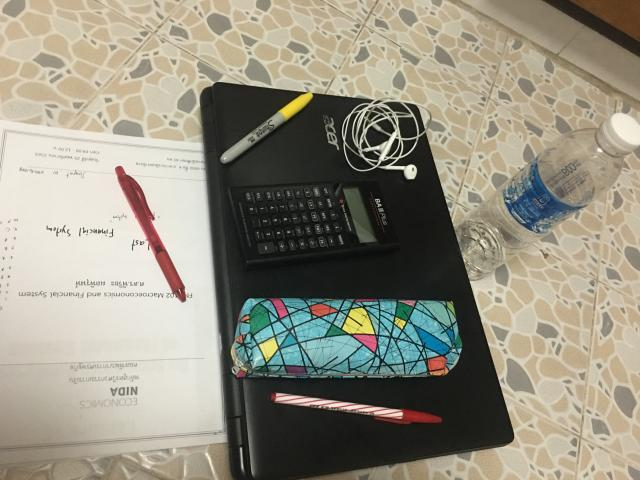Pen: (220, 92, 312, 164), (270, 392, 441, 424)
bottle: (456, 114, 640, 280), (115, 166, 186, 302)
paper: (0, 121, 225, 465)
wire: (341, 99, 431, 180)
